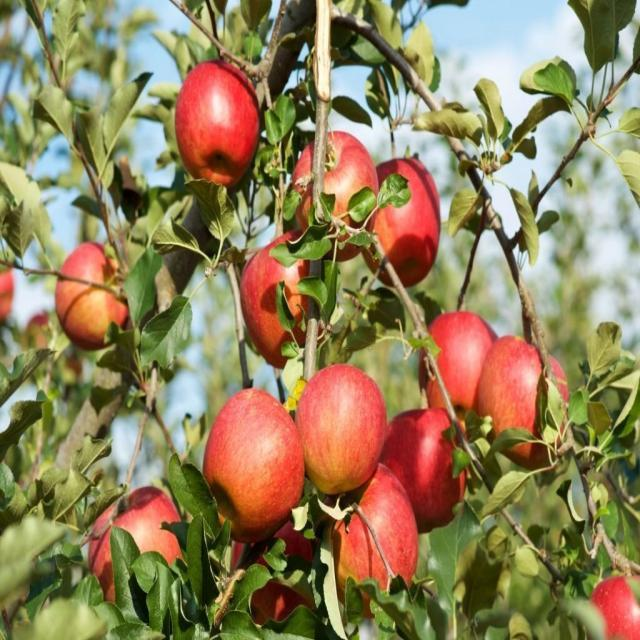Red Apple: (209, 378, 318, 521), (332, 471, 419, 596), (181, 59, 265, 188), (302, 371, 389, 490), (384, 407, 470, 521), (96, 490, 185, 600), (486, 339, 564, 464), (371, 153, 444, 286), (228, 520, 313, 628), (299, 132, 377, 249), (240, 238, 320, 340), (427, 310, 498, 419), (63, 245, 128, 346), (591, 571, 640, 640)
